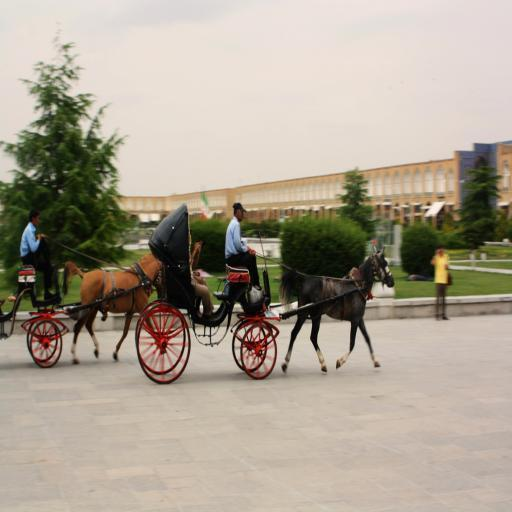horse: (280, 245, 396, 379), (60, 252, 168, 368)
